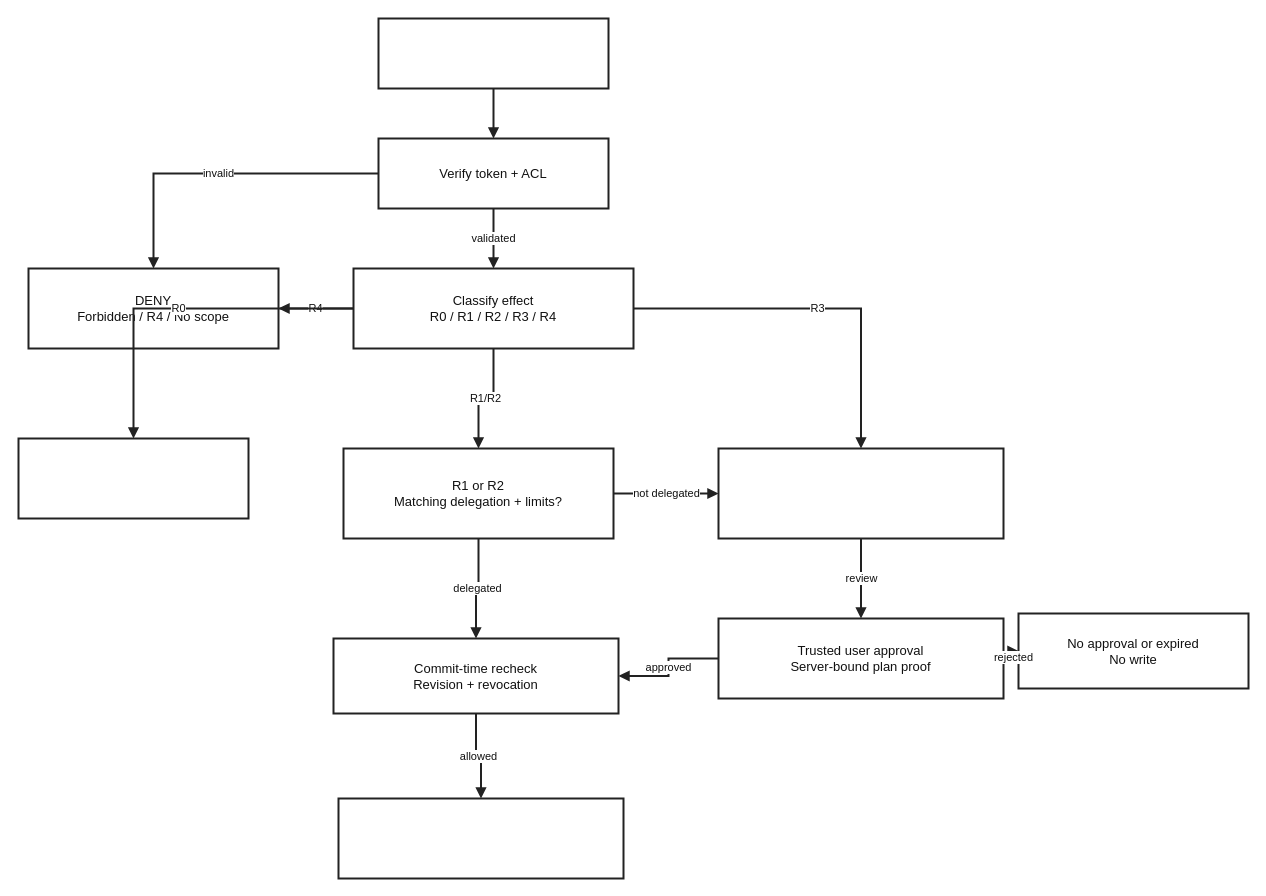
Some shapes in this 1266 by 896 pixel diagram are drawn without their labels. Here are the shapes that lost their labels. From the top down, the centre of each, then its label:
At (x=493, y=53): "MCP tool request".
At (x=133, y=478): "R0: Allowed read Filter + redact".
At (x=860, y=493): "R2 not delegated or R3 Review exact plan".
At (x=480, y=838): "Write transaction + audit Reconcile upstream as needed".
